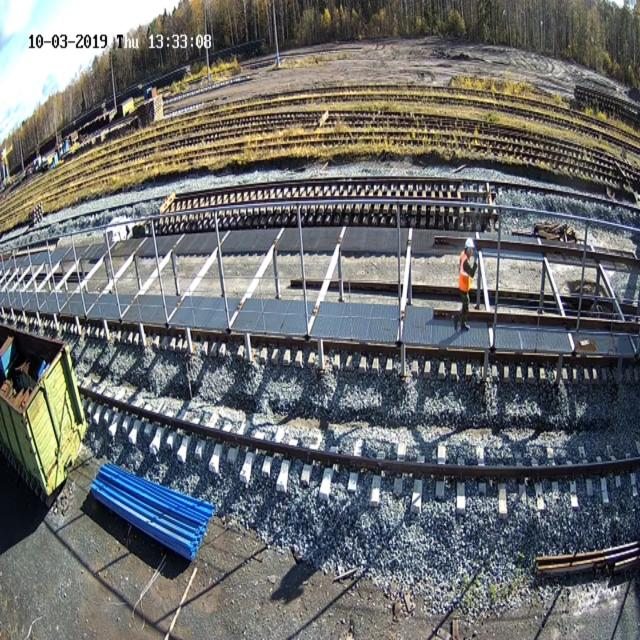Helmet: (465, 237, 474, 249)
Person: (458, 237, 478, 330)
